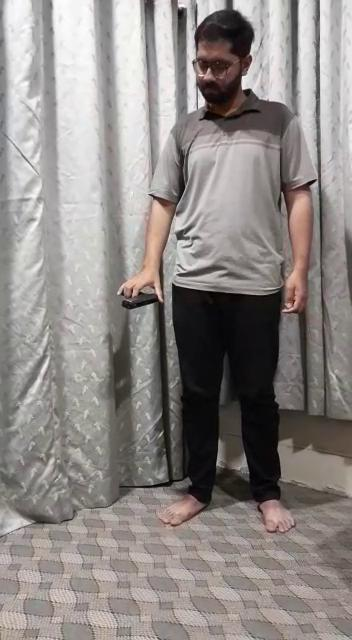criminal: (115, 7, 317, 535)
weapon: (117, 283, 163, 312)
